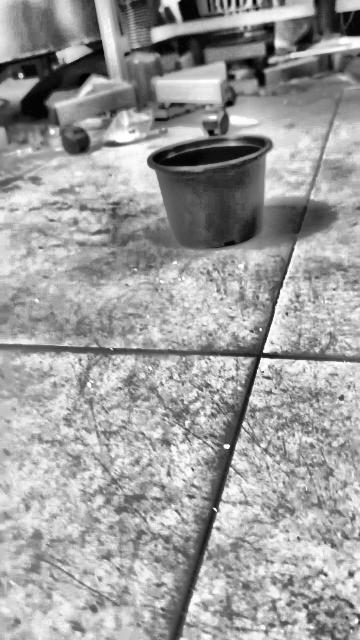pot: (147, 135, 273, 248)
